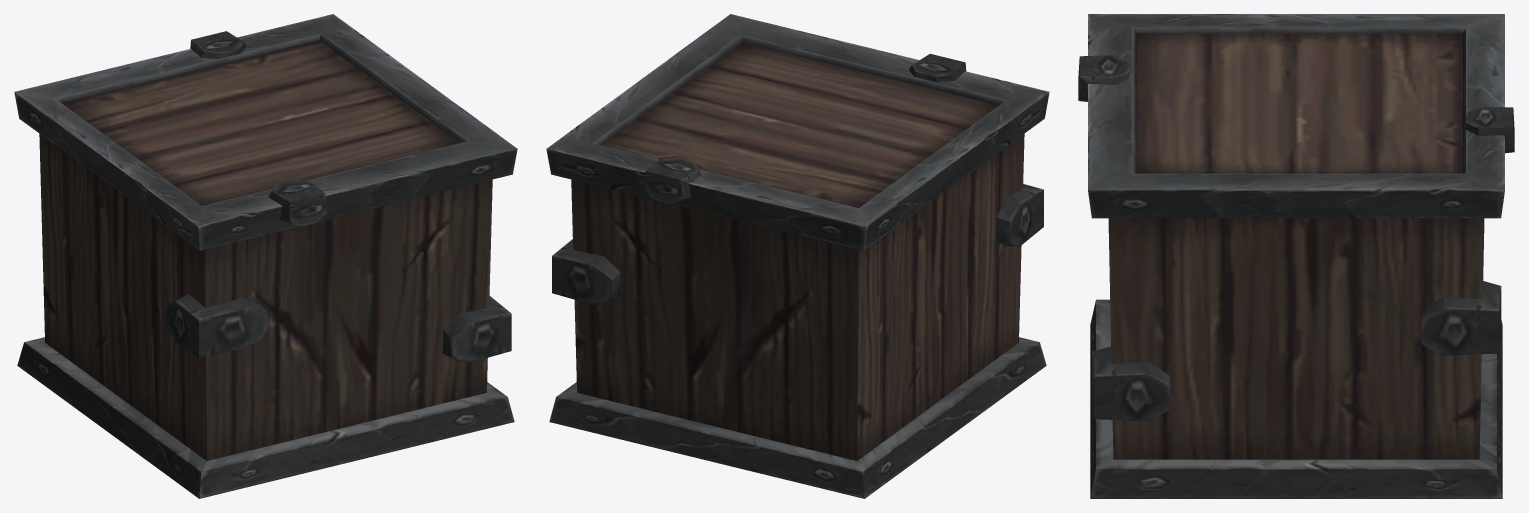
The model's file is SM_Plains_muxiang01.FBX.
3 views of the same model, side by side, from view 1: azimuth 30°, elevation 25°; view 2: azimuth 150°, elevation 25°; view 3: azimuth 270°, elevation 25° (orthographic). The views are drawn at different scales.
Parts seen in each view (by area): view 1: SM_Plains_muxiang01; view 2: SM_Plains_muxiang01; view 3: SM_Plains_muxiang01.
Part boxes in pixels (x1,y1,x2,y2): SM_Plains_muxiang01: (14, 14, 517, 498); SM_Plains_muxiang01: (546, 14, 1049, 498); SM_Plains_muxiang01: (1078, 14, 1514, 498).
Bounding box in the file's own units: 96.79 × 80.86 × 101.
